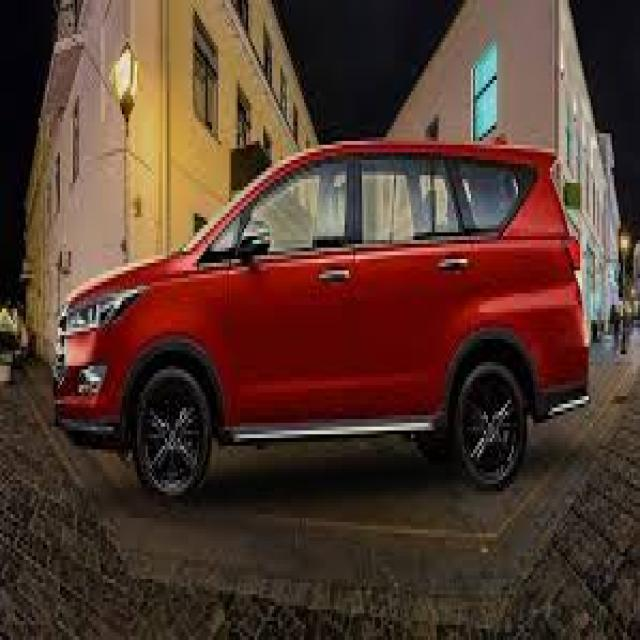light_vehicle: (53, 138, 591, 508)
